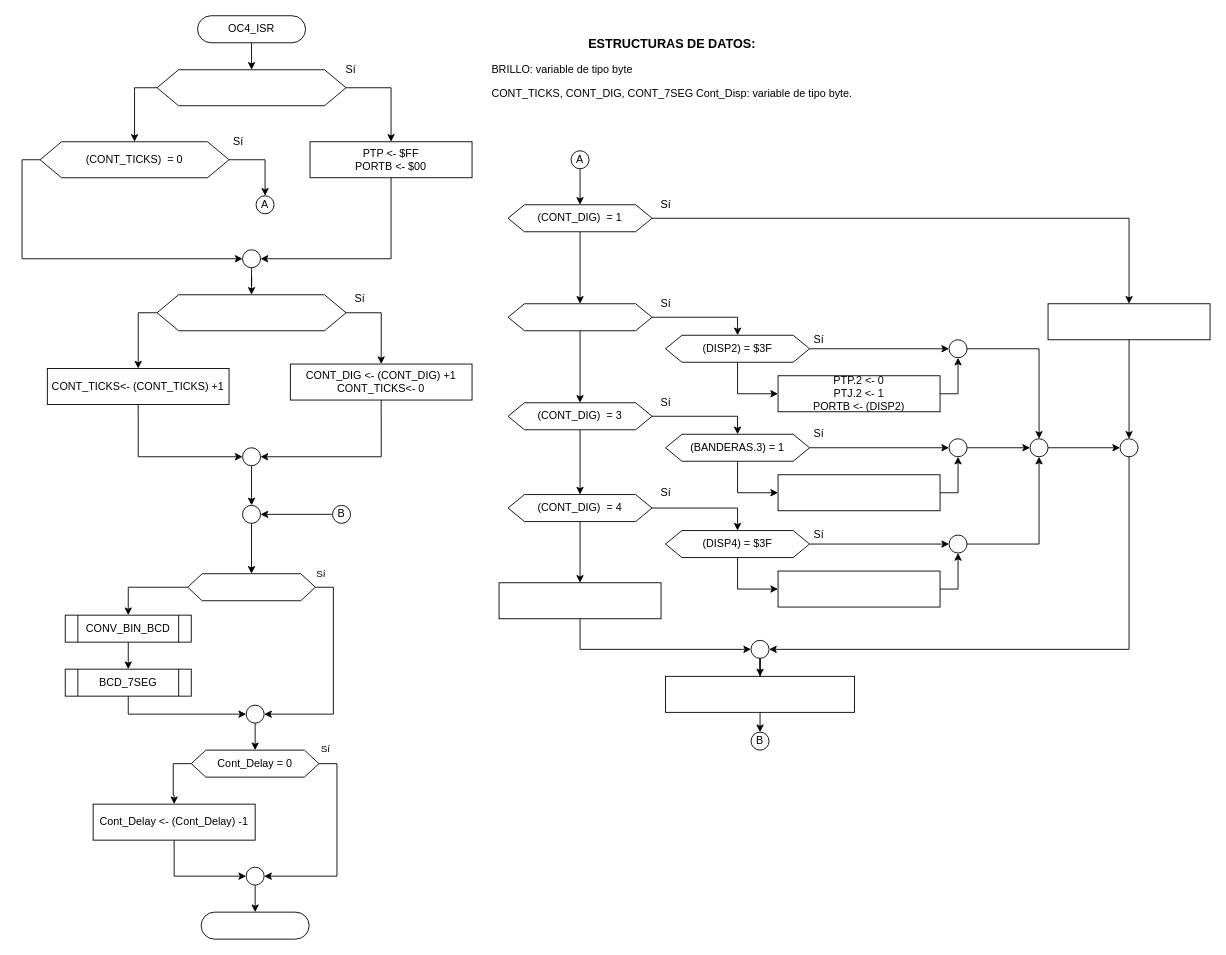
The diagram is 1226 pixels wide and 955 high, and some of its shapes have lost their labels. The box of each missing label's shape, as (x1, y1, x2, y2) in pixels:
(CONT_DIG) = 2: (507, 303, 652, 331)
(CONT_TICKS) = 100: (156, 294, 346, 331)
(CONT_TICKS) = 100 - (BRILLO): (156, 69, 346, 106)
CONT_7SEG = 0: (187, 573, 315, 601)
CONT_TICKS <- (CONT_TICKS) +1: (665, 675, 855, 712)
PTJ.1 <- $ PORTB <- (LEDS): (498, 582, 661, 619)
PTP.0 <- 0 PTJ.1 <- 1 PORTB <- (DISP4): (777, 570, 940, 607)
PTP.1 <- 0 PTJ.1 <- 1 PORTB <- (DISP3): (777, 474, 940, 511)
PTP.3 <- 0 PTJ.1 <- 1 PORTB <- (DISP1): (1047, 303, 1210, 340)
REGRESA: (200, 911, 309, 939)
